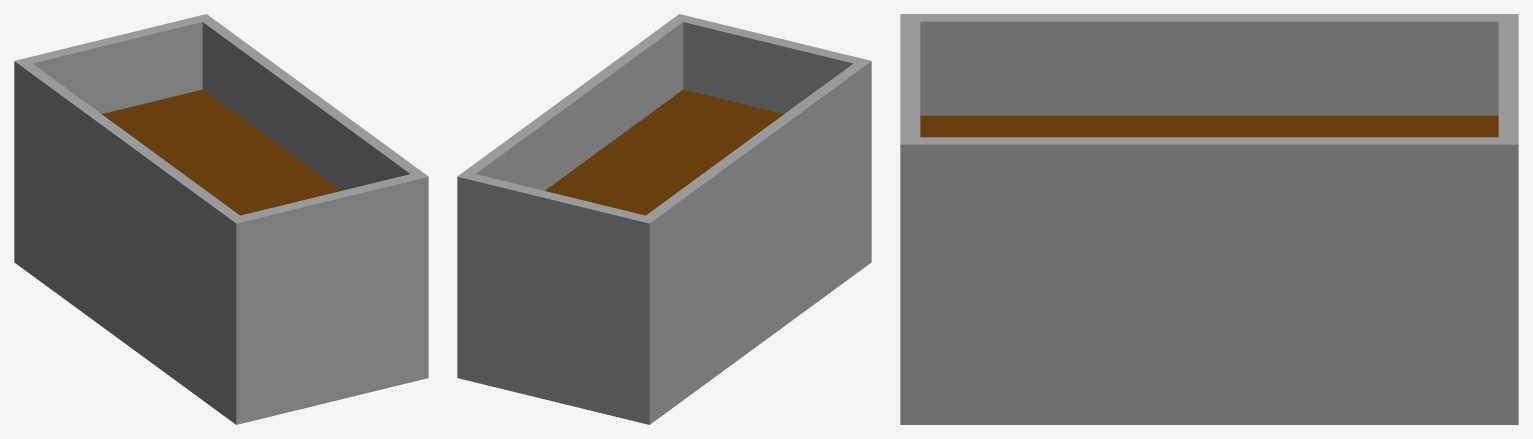
Rendered from MOD_Greybox_FlowerBox.fbx.
3 views of the same model, side by side, from view 1: azimuth 30°, elevation 25°; view 2: azimuth 150°, elevation 25°; view 3: azimuth 270°, elevation 25° (orthographic). The views are drawn at different scales.
Parts seen in each view (by area): view 1: Greybox_FlowerBox; view 2: Greybox_FlowerBox; view 3: Greybox_FlowerBox.
Part boxes in pixels (left/top/right/bottom): Greybox_FlowerBox: left=14, top=14, right=428, bottom=424; Greybox_FlowerBox: left=457, top=14, right=871, bottom=424; Greybox_FlowerBox: left=900, top=14, right=1518, bottom=424.
Bounding box in the file's own units: 50 × 50 × 100.
